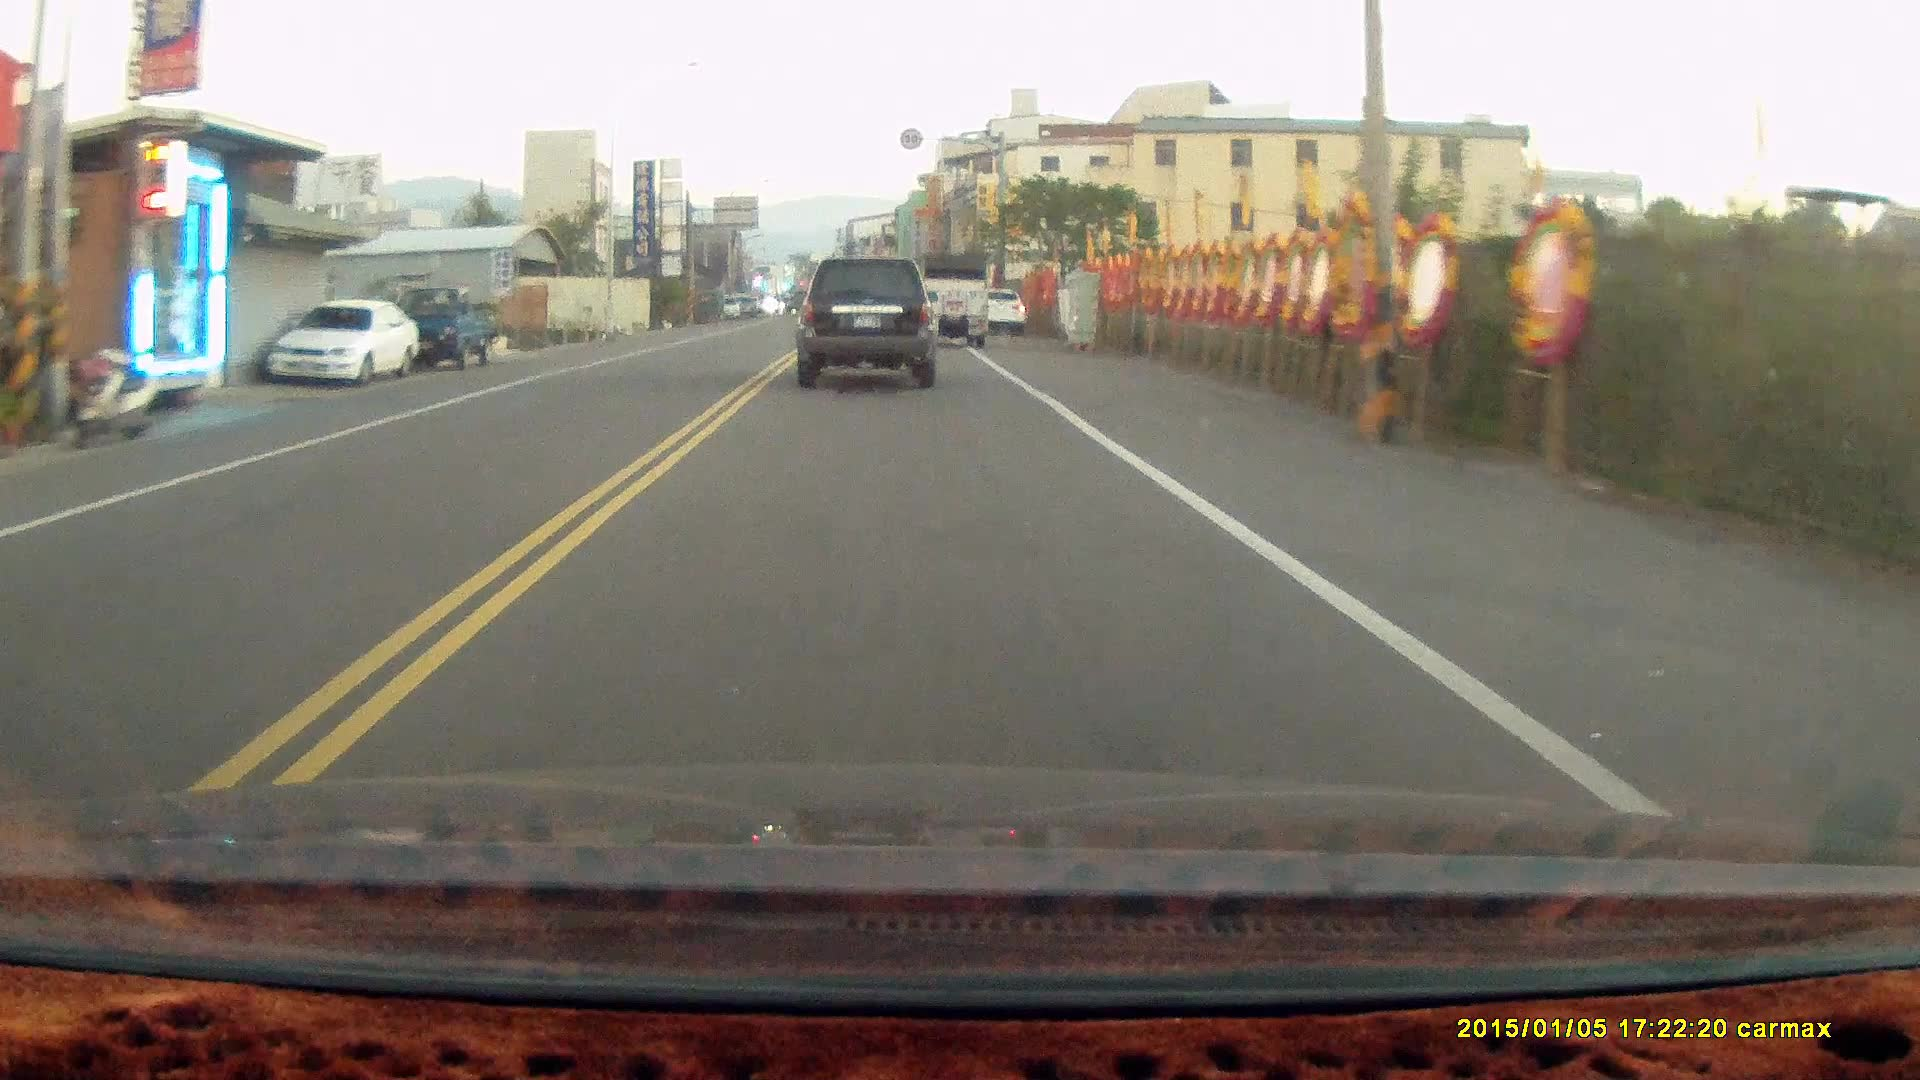vehicle: (800, 251, 943, 385), (270, 295, 422, 385), (394, 284, 506, 375), (918, 249, 994, 345)
